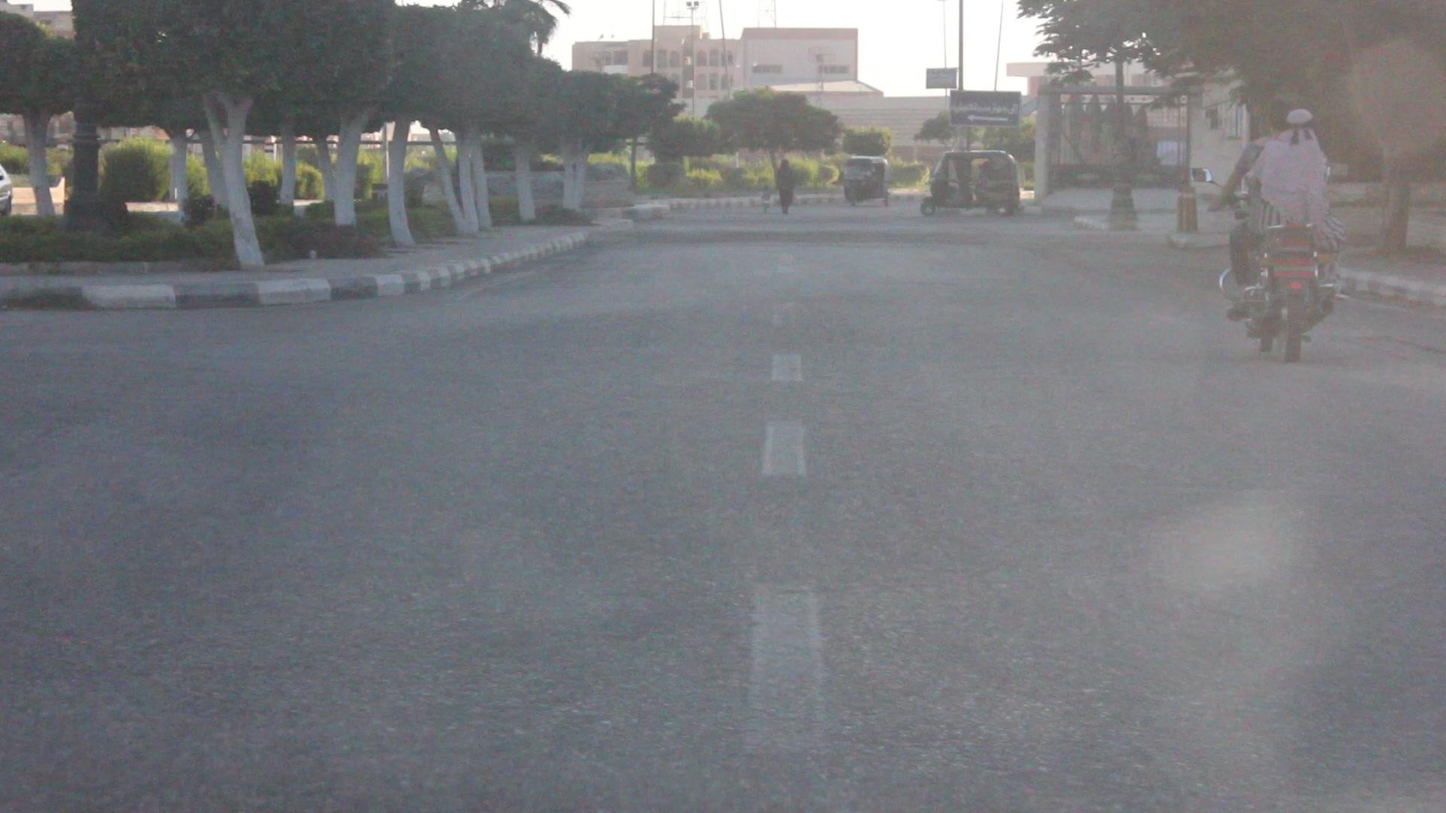Bump: (586, 229, 1184, 246)
